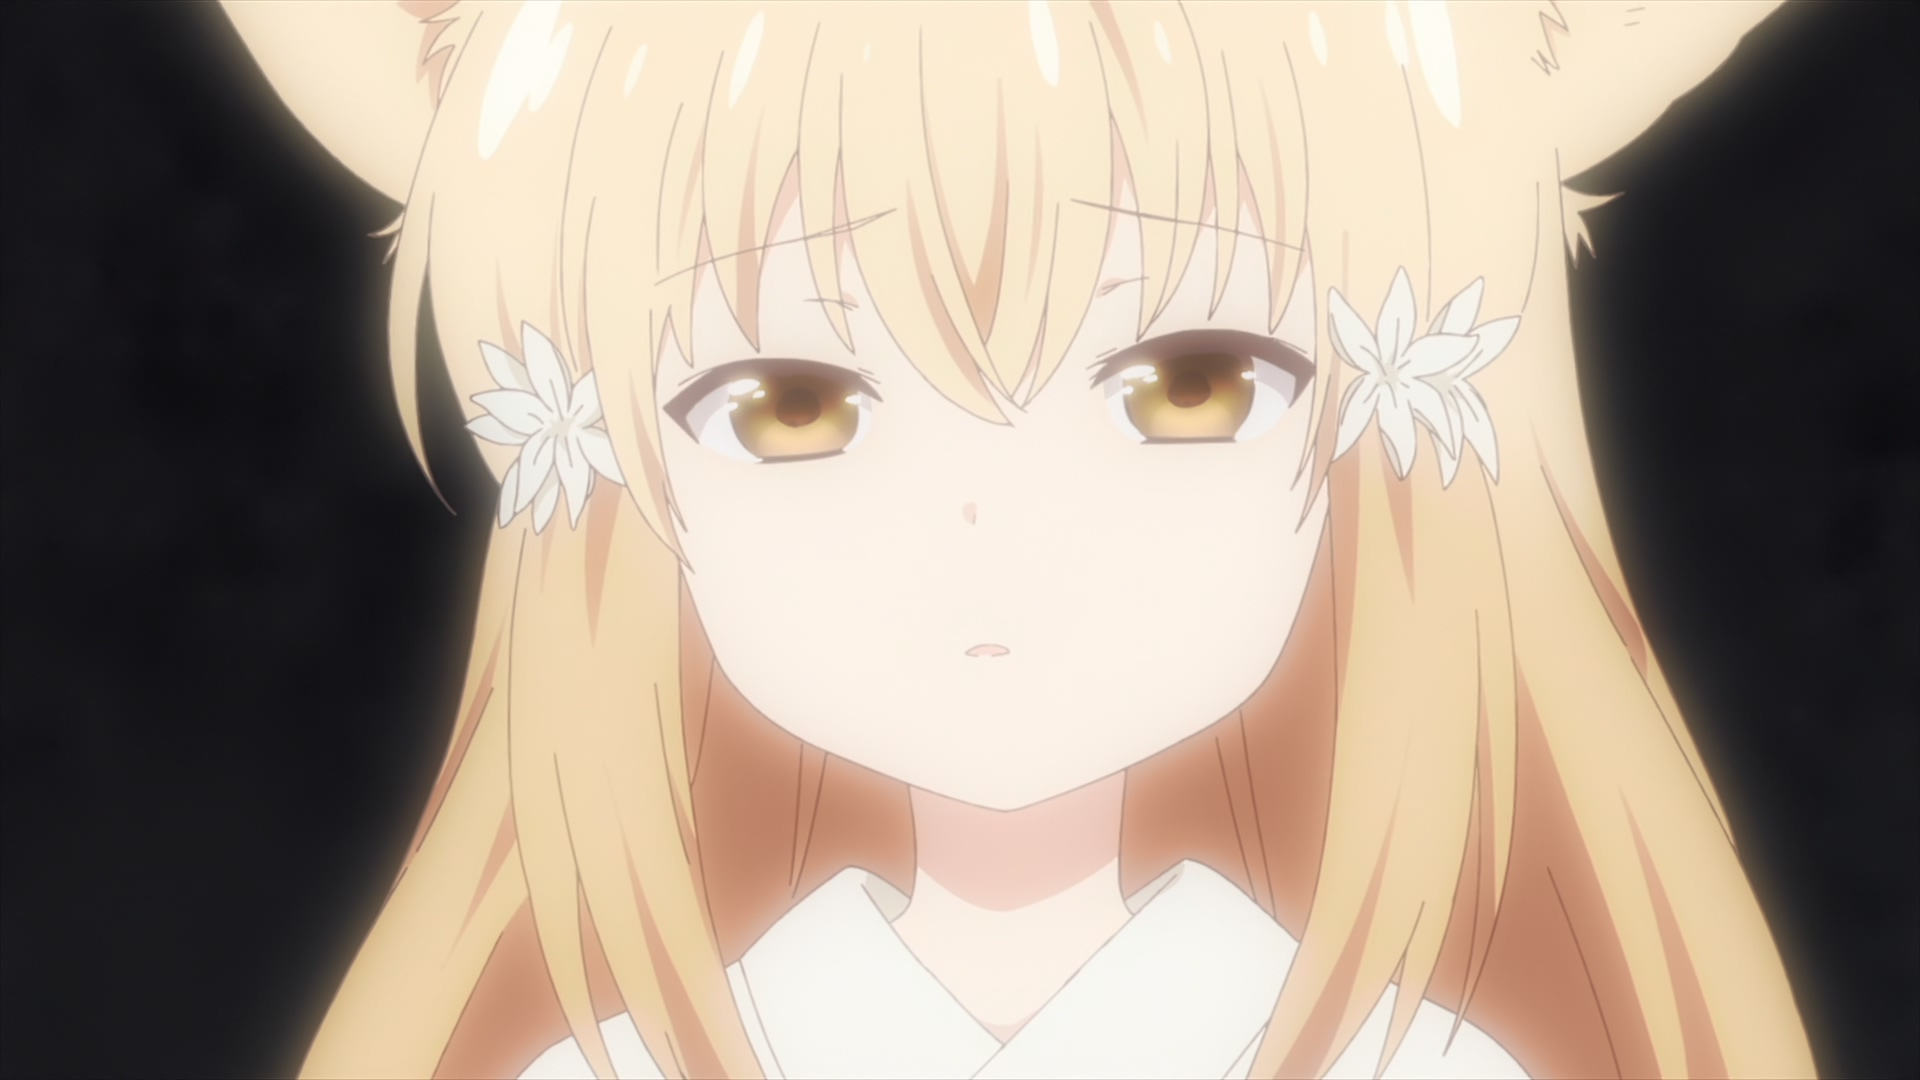柚: (220, 1, 1816, 1080)
